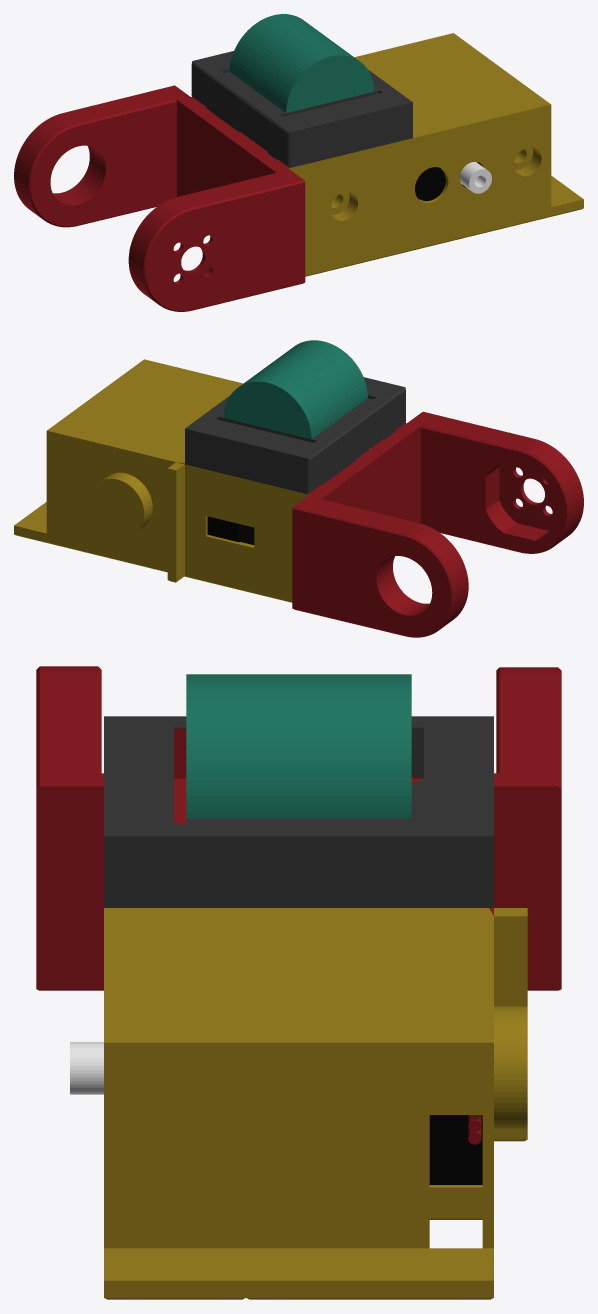
Rendered from finger_link121.dae.
3 views of the same model, one above another, from view 1: azimuth 30°, elevation 25°; view 2: azimuth 150°, elevation 25°; view 3: azimuth 270°, elevation 25° (orthographic). The views are drawn at different scales.
Visible parts, largest first — view 1: finger_link121.001; view 2: finger_link121.001; view 3: finger_link121.001.
Part boxes in pixels (bbox=[...]): finger_link121.001: bbox=[14, 14, 583, 311]; finger_link121.001: bbox=[14, 340, 583, 637]; finger_link121.001: bbox=[36, 666, 561, 1299].
Size of the model in its own units: 93.52 by 46.6 by 38.15.
